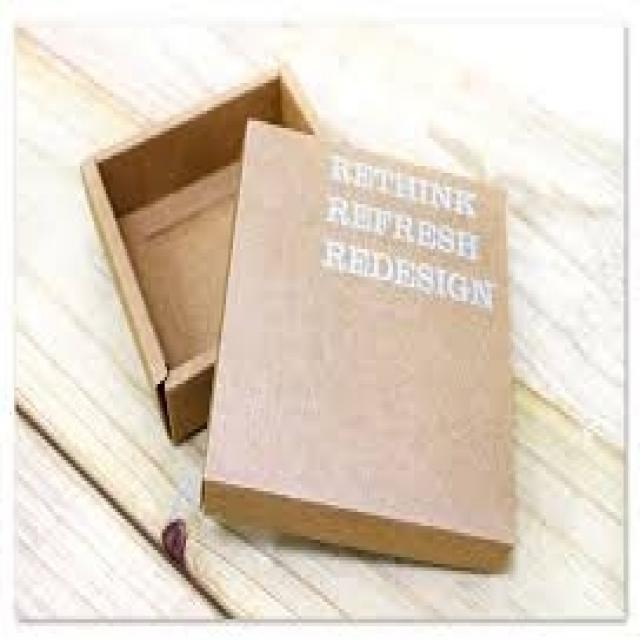cardboard paper: (203, 120, 511, 571), (79, 62, 346, 443)
